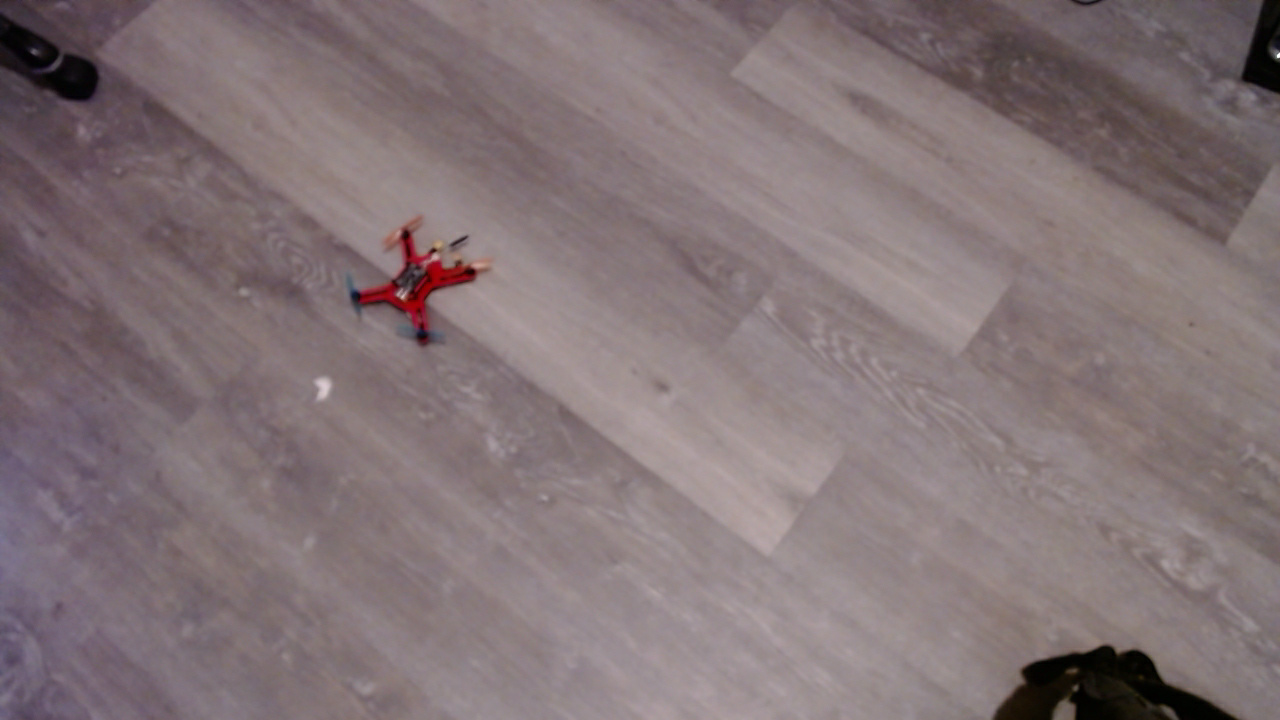crazyflie: (348, 218, 499, 350)
